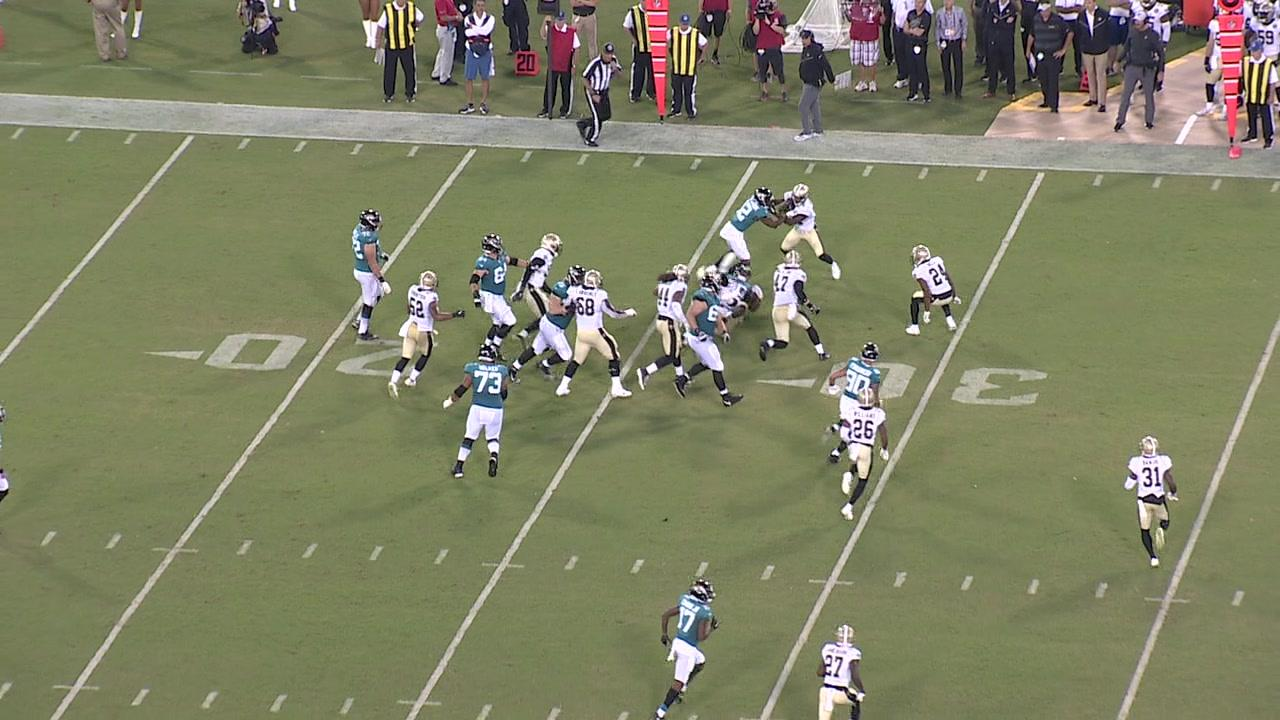five_hash: (48, 681, 103, 696), (1141, 592, 1195, 607), (805, 575, 855, 590), (395, 696, 450, 709), (151, 544, 198, 558), (478, 560, 532, 571)
hash: (753, 559, 782, 585), (34, 526, 61, 552), (195, 687, 222, 712), (888, 566, 913, 592), (263, 690, 289, 715), (429, 545, 454, 570), (955, 569, 979, 595), (129, 683, 153, 709), (102, 530, 126, 555), (1018, 575, 1043, 599), (233, 535, 256, 561), (332, 693, 354, 720), (298, 538, 321, 563), (560, 550, 581, 576), (364, 543, 386, 567), (690, 558, 712, 582), (626, 554, 647, 579), (1091, 578, 1111, 602), (1228, 587, 1247, 612), (542, 703, 566, 720), (474, 702, 494, 720)
marker: (1215, 0, 1246, 147), (643, 0, 673, 123)
